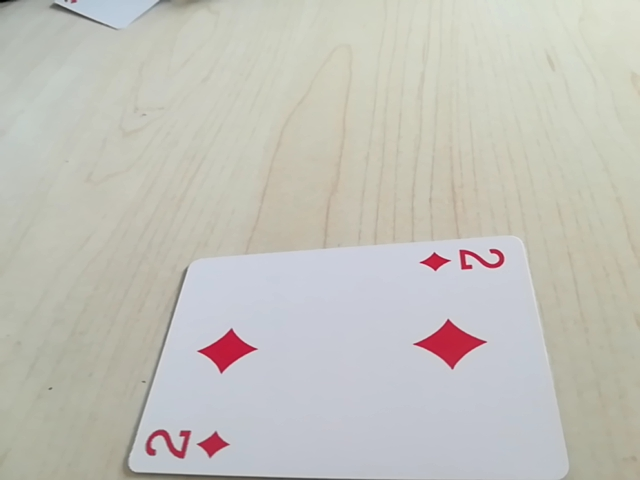fk 2: (141, 420, 236, 466), (419, 243, 513, 280)
